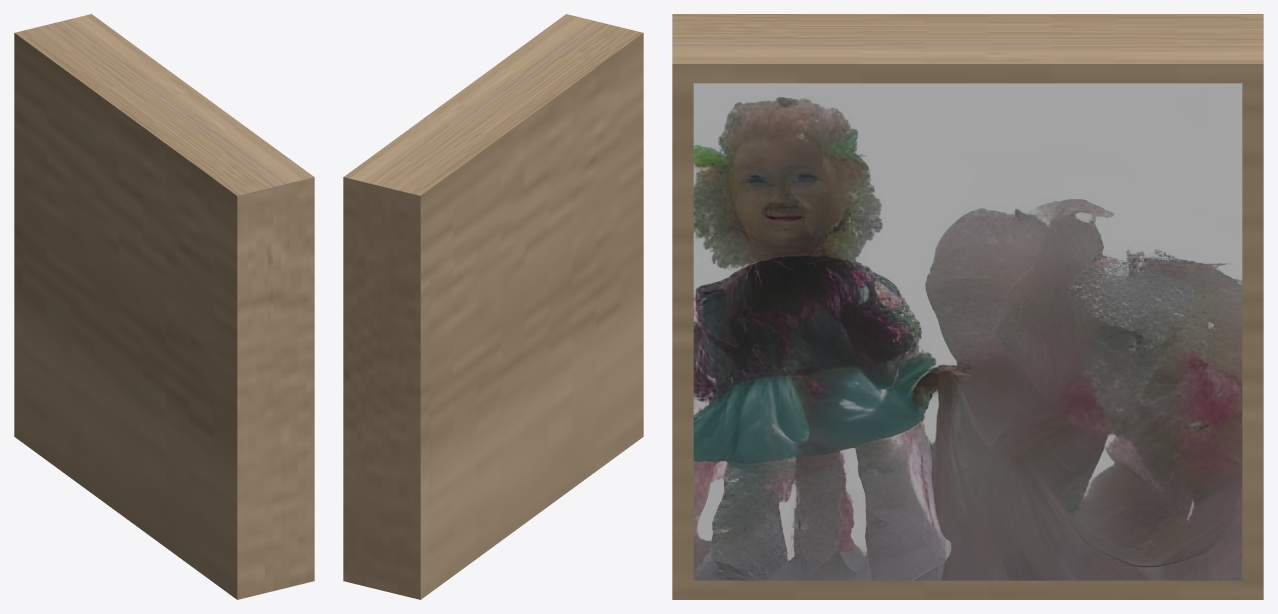
The model's file is picture7.fbx.
3 views of the same model, side by side, from view 1: azimuth 30°, elevation 25°; view 2: azimuth 150°, elevation 25°; view 3: azimuth 270°, elevation 25° (orthographic). The views are drawn at different scales.
Parts seen in each view (by area): view 1: Cube; view 2: Cube; view 3: Cube.
Part boxes in pixels (left/top/right/bottom): Cube: left=14, top=14, right=314, bottom=599; Cube: left=343, top=14, right=643, bottom=599; Cube: left=672, top=14, right=1263, bottom=599.
Bounding box in the file's own units: 10 × 50 × 50.
Materials: 2 (2 with a texture image).
